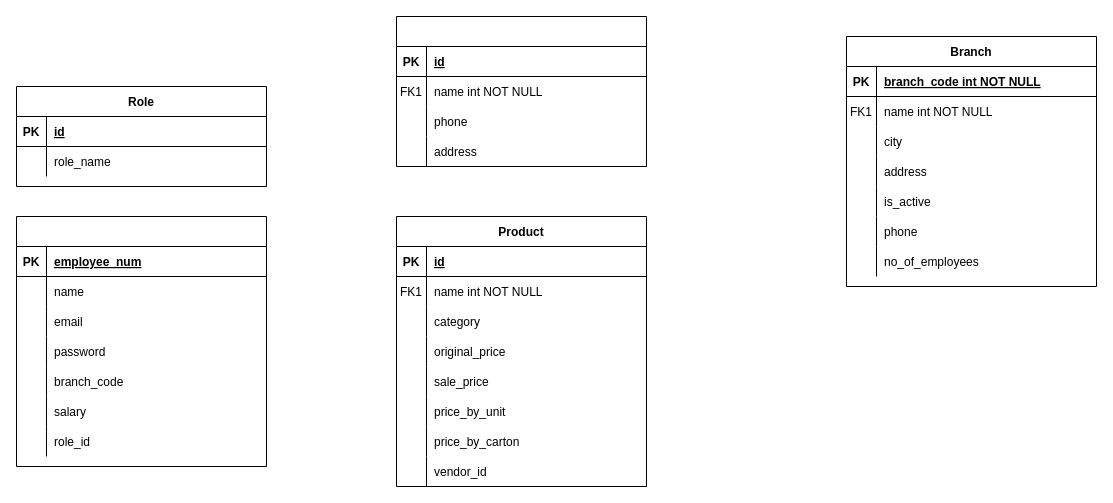
Some shapes in this 1113 by 503 pixel diagram are drawn without their labels. Here are the shapes that lost their labels. From the top down, the box of each, then its label:
(396, 16, 646, 166): Vendor
(16, 216, 266, 466): User
